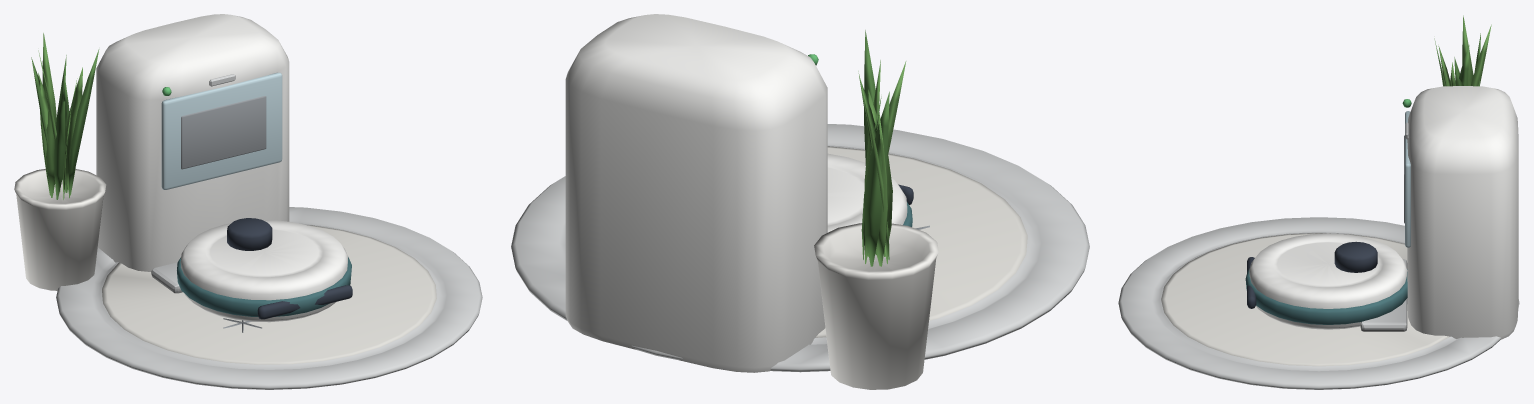
The model's file is robotVacuumDock.glb.
3 views of the same model, side by side, from view 1: azimuth 30°, elevation 25°; view 2: azimuth 150°, elevation 25°; view 3: azimuth 270°, elevation 25° (orthographic). The views are drawn at different scales.
Visible parts, largest first — view 1: body, robot; view 2: body, robot; view 3: body, robot.
Boxes of the visible parts, x1,y1,x2,y2 form: body: (14,14,482,389); robot: (177,218,352,332); body: (511,14,1089,389); robot: (827,153,929,232); body: (1118,15,1519,389); robot: (1245,233,1407,329).
Bounding box in the file's own units: 0.864 × 0.5241 × 0.864.
